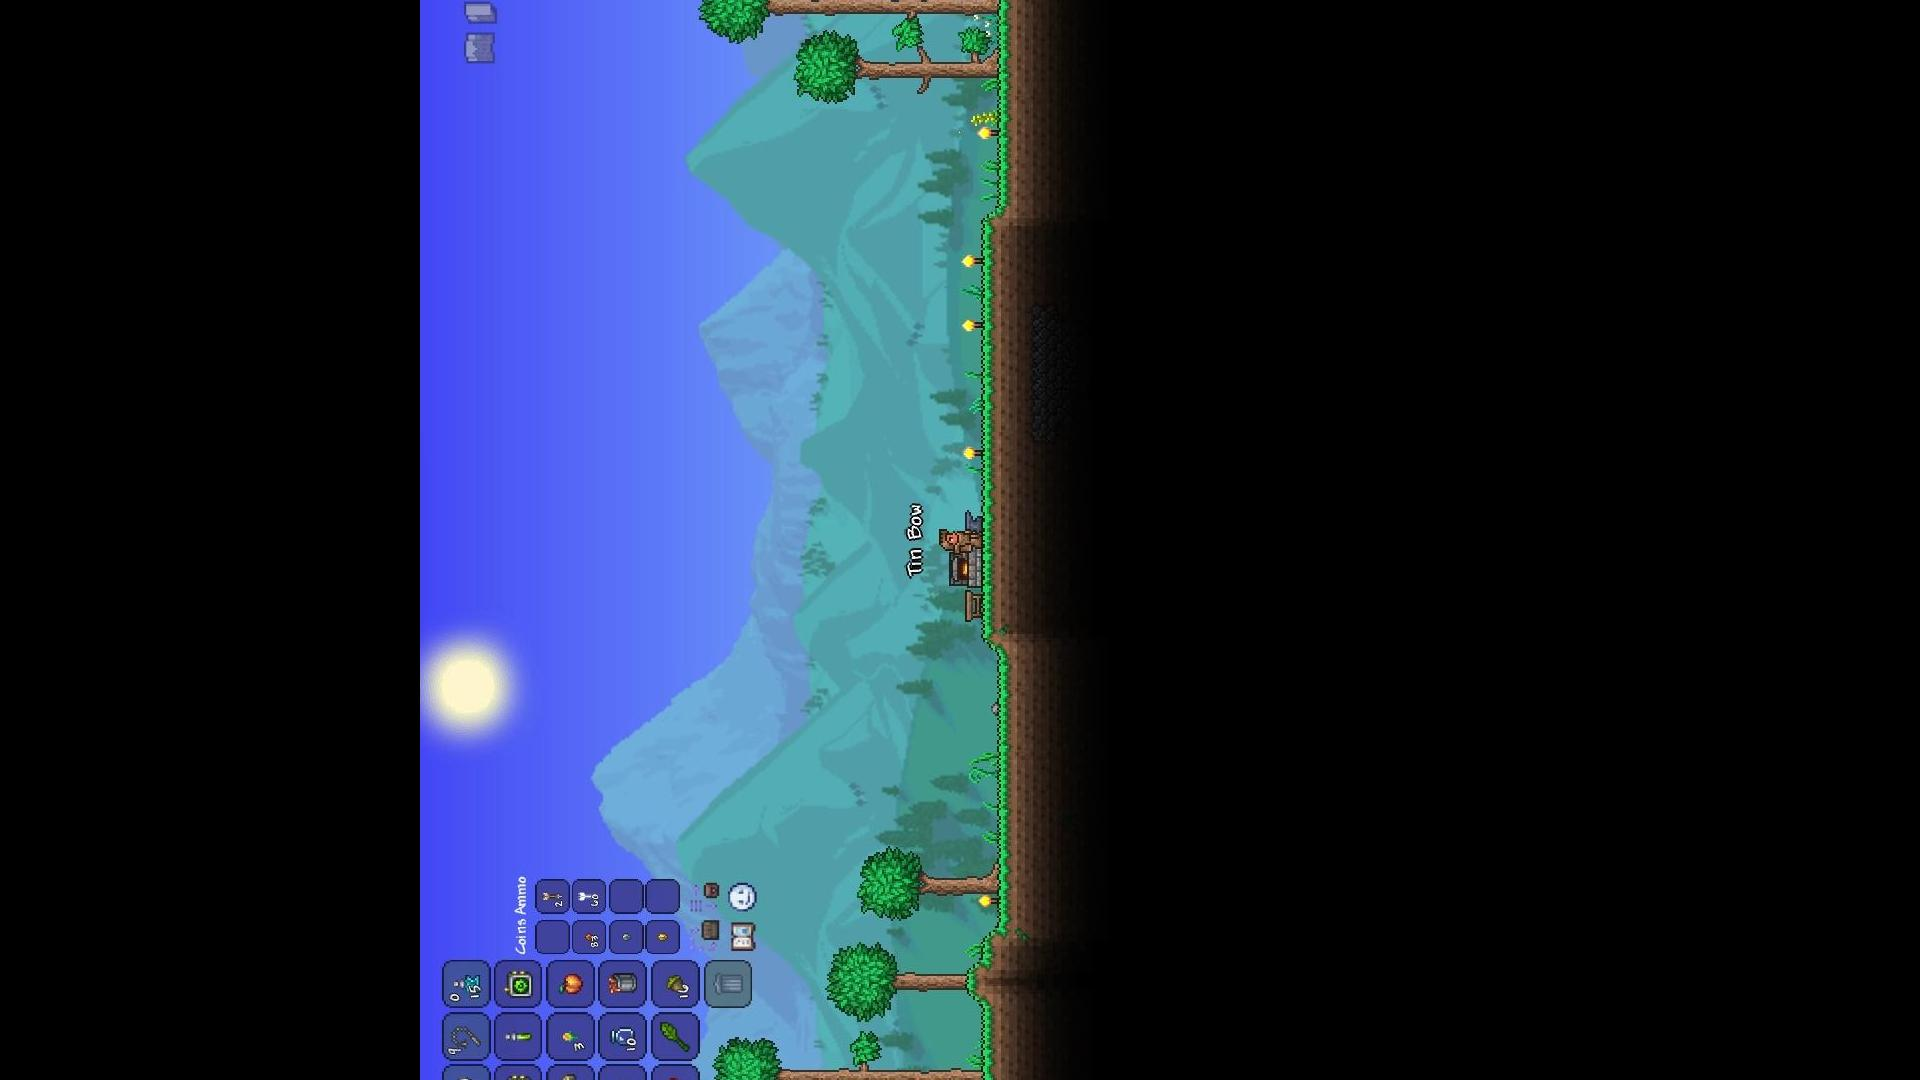dirt: (973, 215, 1029, 647), (977, 630, 1036, 932), (978, 0, 1023, 229), (965, 910, 1018, 1080)
